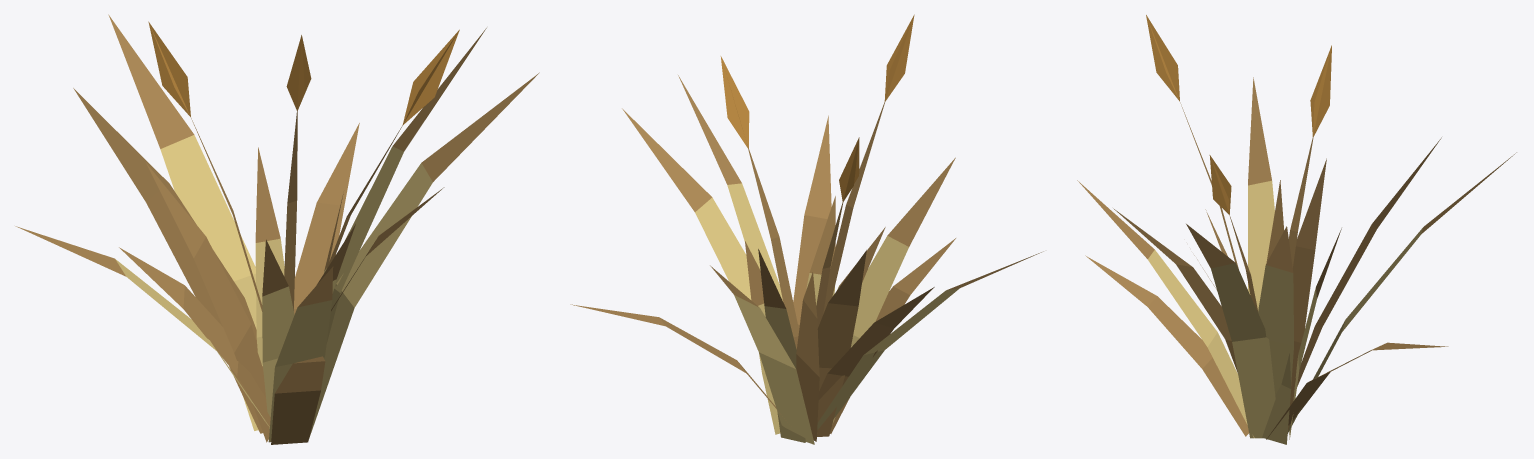
The model's file is dune_grass_a.glb.
3 views of the same model, side by side, from view 1: azimuth 30°, elevation 25°; view 2: azimuth 150°, elevation 25°; view 3: azimuth 270°, elevation 25° (orthographic). The views are drawn at different scales.
Visible parts, largest first — view 1: dune_grass_a; view 2: dune_grass_a; view 3: dune_grass_a.
Part boxes in pixels (x1=…): dune_grass_a: x1=15, y1=14, x2=539, y2=444; dune_grass_a: x1=570, y1=14, x2=1043, y2=444; dune_grass_a: x1=1077, y1=15, x2=1516, y2=444.
Bounding box in the file's own units: 0.9175 × 0.8287 × 0.8403.
